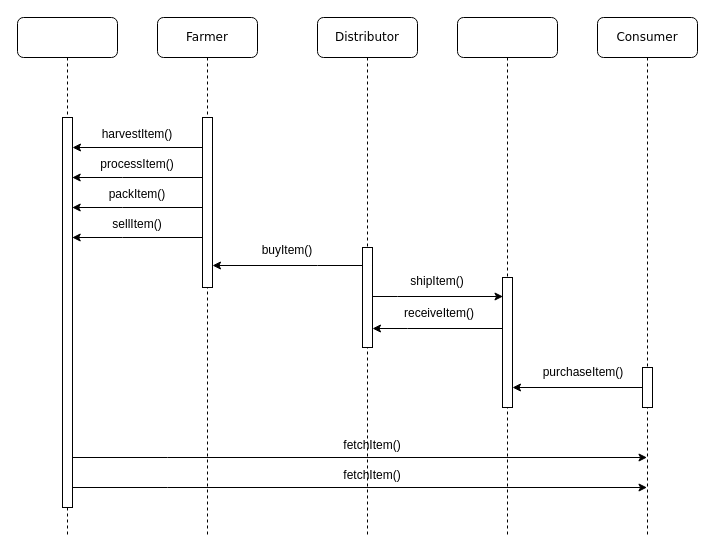
Some shapes in this 715 by 555 pixel diagram are drawn without their labels. The shapes that lost their labels are listed below. From the top down, each one's box as (x1, y1, x2, y2) in pixels, then its label:
(16, 16, 118, 538): Coffe
(456, 16, 558, 538): Retailer
